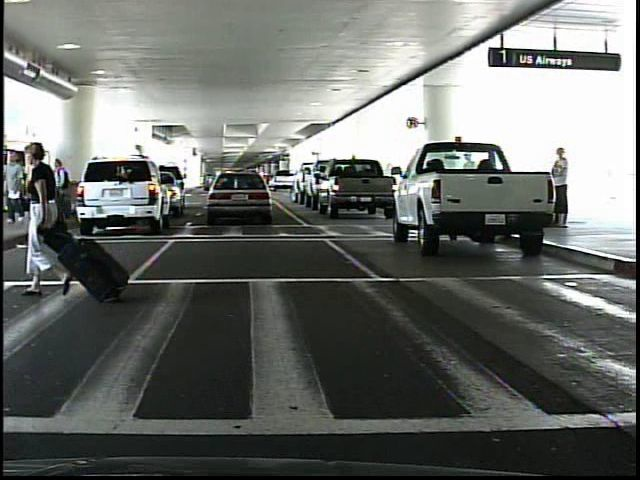person: (14, 143, 76, 291), (537, 149, 574, 229), (4, 152, 28, 225), (47, 157, 68, 223)
